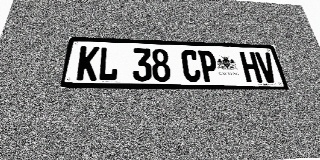3: (133, 48, 152, 81)
8: (151, 49, 171, 82)
C: (181, 50, 202, 82)
H: (239, 52, 263, 83)
K: (76, 46, 100, 81)
L: (97, 47, 119, 81)
P: (198, 50, 219, 82)
V: (255, 52, 279, 83)
